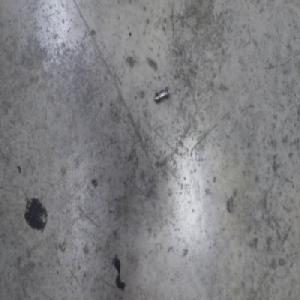Bolt: (155, 84, 170, 103)
